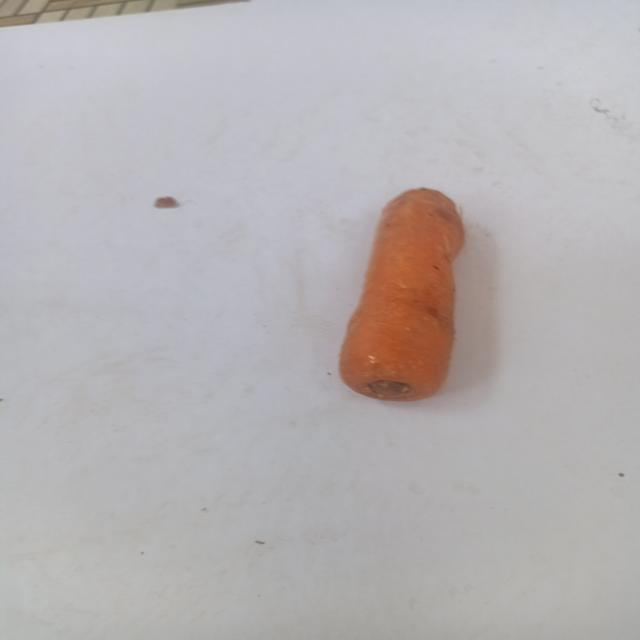Carrot: (314, 171, 495, 415)
